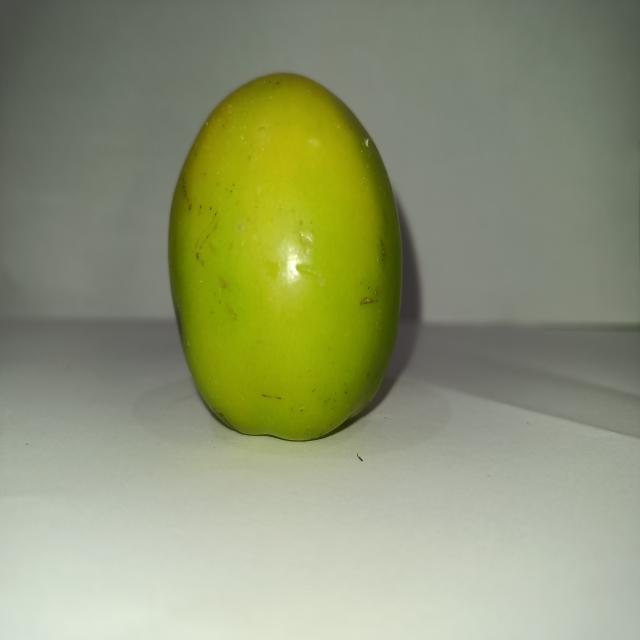Red: (166, 70, 404, 442)
